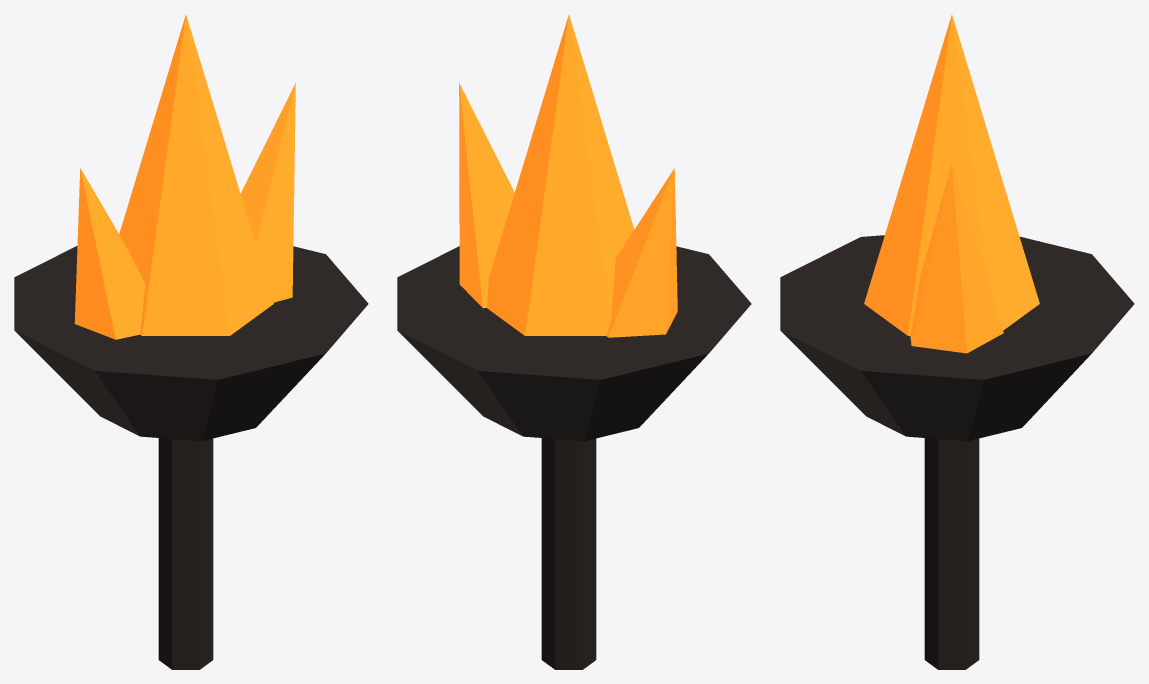
File: brazier.glb
3 renders of one model, left to right at view 1: azimuth 30°, elevation 25°; view 2: azimuth 150°, elevation 25°; view 3: azimuth 270°, elevation 25°, orthographic.
Parts seen in each view (by area): view 1: part.brazier; view 2: part.brazier; view 3: part.brazier.
Part boxes in pixels (x1,y1,x2,y2): part.brazier: [14, 15, 368, 669]; part.brazier: [397, 15, 751, 669]; part.brazier: [780, 14, 1134, 669].
Bounding box in the file's own units: 0.394 × 0.78 × 0.3879.
